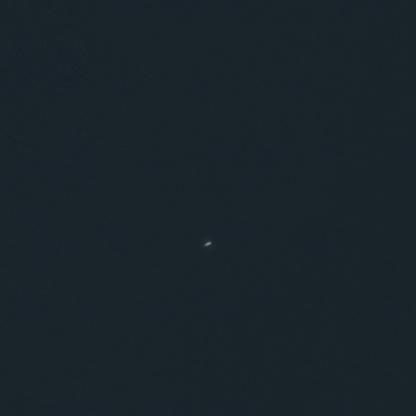ship: (198, 233, 214, 252)
